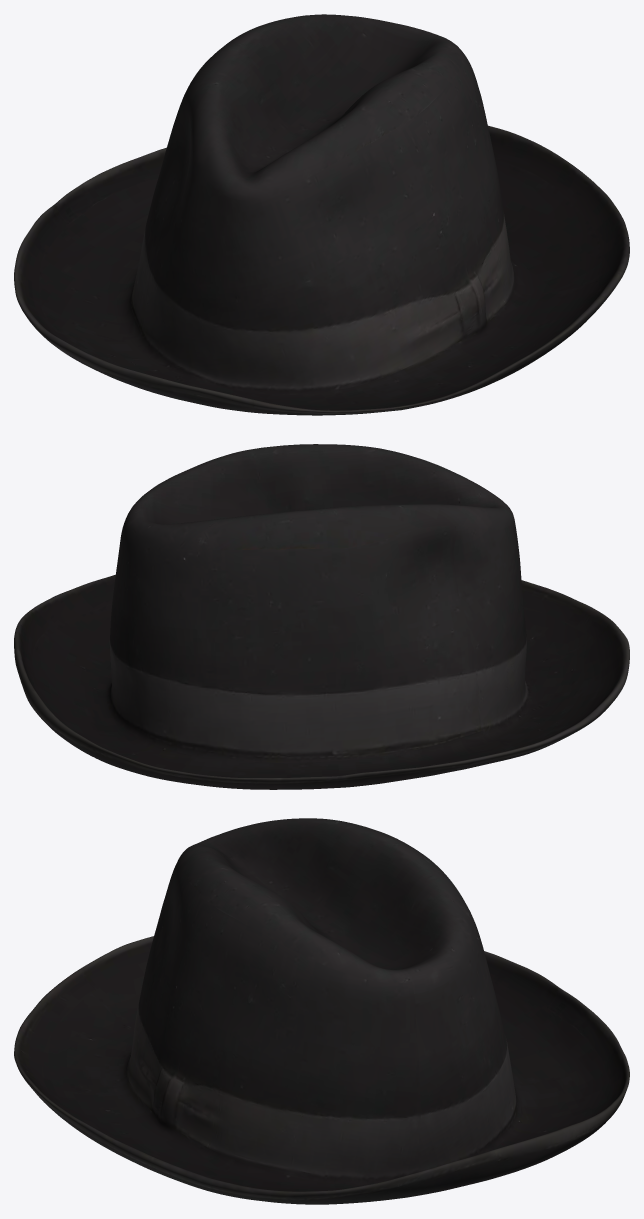
File: fedora.glb
3 renders of one model, top to bottom at view 1: azimuth 30°, elevation 25°; view 2: azimuth 150°, elevation 25°; view 3: azimuth 270°, elevation 25°, orthographic. The views are drawn at different scales.
Parts seen in each view (by area): view 1: Kapelusz_Karola_Wojtyly_defaultMat_0; view 2: Kapelusz_Karola_Wojtyly_defaultMat_0; view 3: Kapelusz_Karola_Wojtyly_defaultMat_0.
Boxes of the visible parts, bbox=[...] form: Kapelusz_Karola_Wojtyly_defaultMat_0: bbox=[14, 14, 629, 415]; Kapelusz_Karola_Wojtyly_defaultMat_0: bbox=[14, 444, 629, 789]; Kapelusz_Karola_Wojtyly_defaultMat_0: bbox=[14, 818, 629, 1204].
Size of the model in its own units: 33.31 by 13.69 by 32.19.
1 material, 1 textured.
